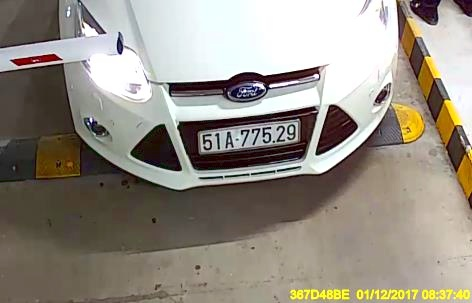plate: (194, 121, 305, 151)
